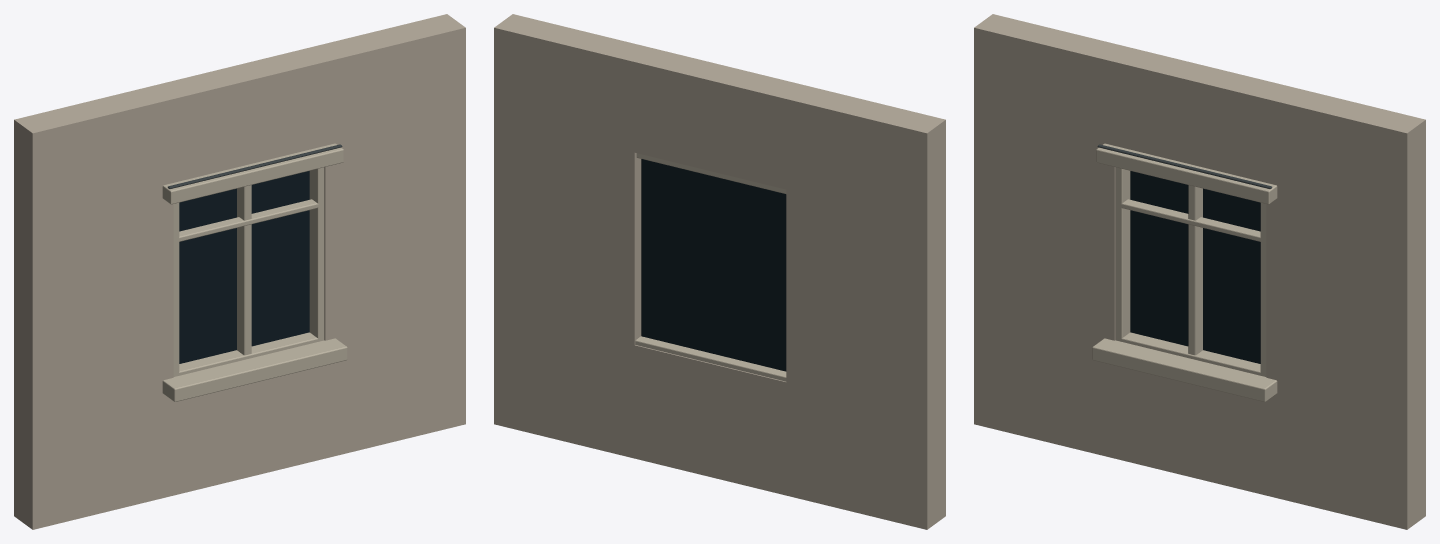
Rendered from facade-material-rich.glb.
3 views of the same model, side by side, from view 1: azimuth 30°, elevation 25°; view 2: azimuth 150°, elevation 25°; view 3: azimuth 330°, elevation 25° (orthographic).
Parts seen in each view (by area): view 1: left_pier, right_pier, window, above_window, below_window, sill, head, frame_jamb.001, mullion, frame_rail, transom, frame_jamb (+1 smaller); view 2: left_pier, right_pier, window, below_window, above_window, sill, head; view 3: right_pier, left_pier, window, above_window, below_window, sill, head, frame_jamb, mullion, frame_rail, transom, frame_jamb.001 (+1 smaller).
Boxes of the visible parts, <box> form: left_pier: <box>14,85,173,529</box>; right_pier: <box>307,14,465,458</box>; window: <box>179,171,309,363</box>; above_window: <box>155,48,325,182</box>; below_window: <box>173,365,325,495</box>; sill: <box>162,338,347,401</box>; head: <box>162,143,343,204</box>; frame_jamb.001: <box>309,167,324,341</box>; mullion: <box>237,185,251,355</box>; frame_rail: <box>177,332,319,376</box>; transom: <box>178,199,320,241</box>; frame_jamb: <box>173,202,179,376</box>; left_pier: <box>786,85,945,529</box>; right_pier: <box>494,14,652,458</box>; window: <box>641,159,786,371</box>; below_window: <box>634,345,786,495</box>; above_window: <box>634,48,804,189</box>; sill: <box>635,336,786,381</box>; head: <box>636,153,786,193</box>; right_pier: <box>1266,85,1425,529</box>; left_pier: <box>974,14,1132,458</box>; window: <box>1130,171,1260,363</box>; above_window: <box>1114,48,1284,182</box>; below_window: <box>1114,365,1266,495</box>; sill: <box>1092,338,1277,401</box>; head: <box>1096,143,1277,204</box>; frame_jamb: <box>1115,167,1130,341</box>; mullion: <box>1188,185,1202,355</box>; frame_rail: <box>1121,332,1262,376</box>; transom: <box>1119,199,1262,241</box>; frame_jamb.001: <box>1260,202,1266,376</box>.
Size of the model in its own units: 4 by 3.5 by 0.49.
